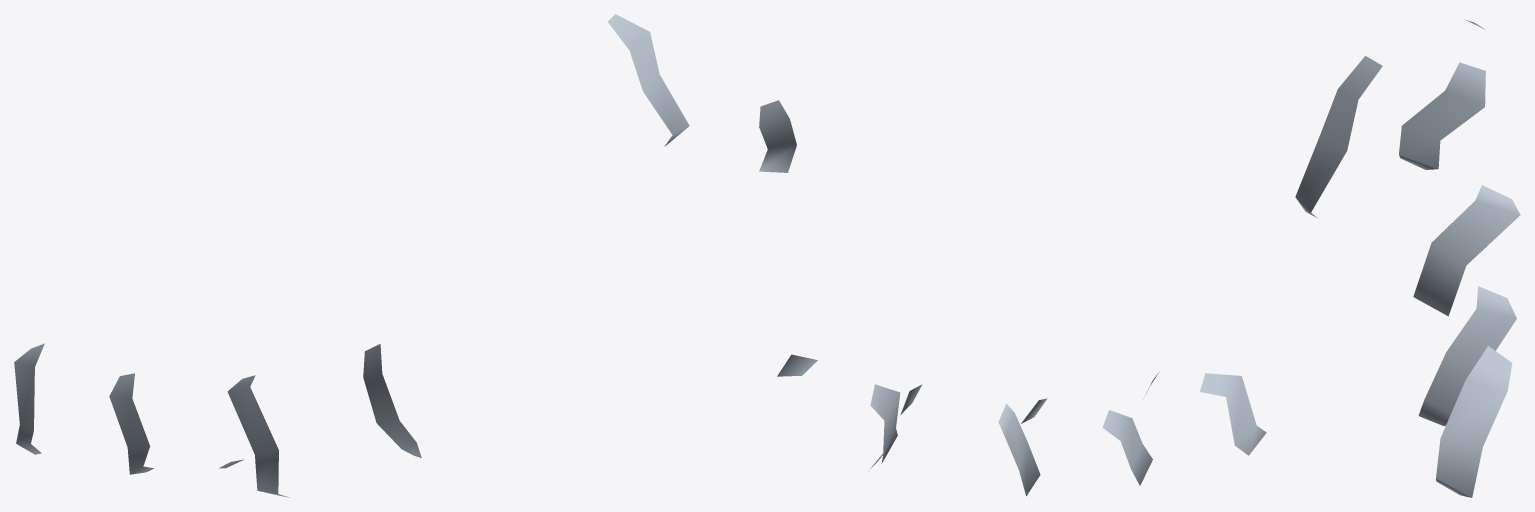
The model's file is collateral-metacarpophalangeal-ligaments-l.glb.
3 renders of one model, left to right at view 1: azimuth 30°, elevation 25°; view 2: azimuth 150°, elevation 25°; view 3: azimuth 270°, elevation 25°, orthographic. The views are drawn at different scales.
Parts seen in each view (by area): view 1: Collateral metacarpophalangeal ligaments.l; view 2: Collateral metacarpophalangeal ligaments.l; view 3: Collateral metacarpophalangeal ligaments.l.
Boxes of the visible parts, bbox=[...] form: Collateral metacarpophalangeal ligaments.l: bbox=[14, 14, 689, 497]; Collateral metacarpophalangeal ligaments.l: bbox=[759, 100, 1266, 496]; Collateral metacarpophalangeal ligaments.l: bbox=[1295, 19, 1520, 497].
Bounding box in the file's own units: 0.094 × 0.061 × 0.0247.
